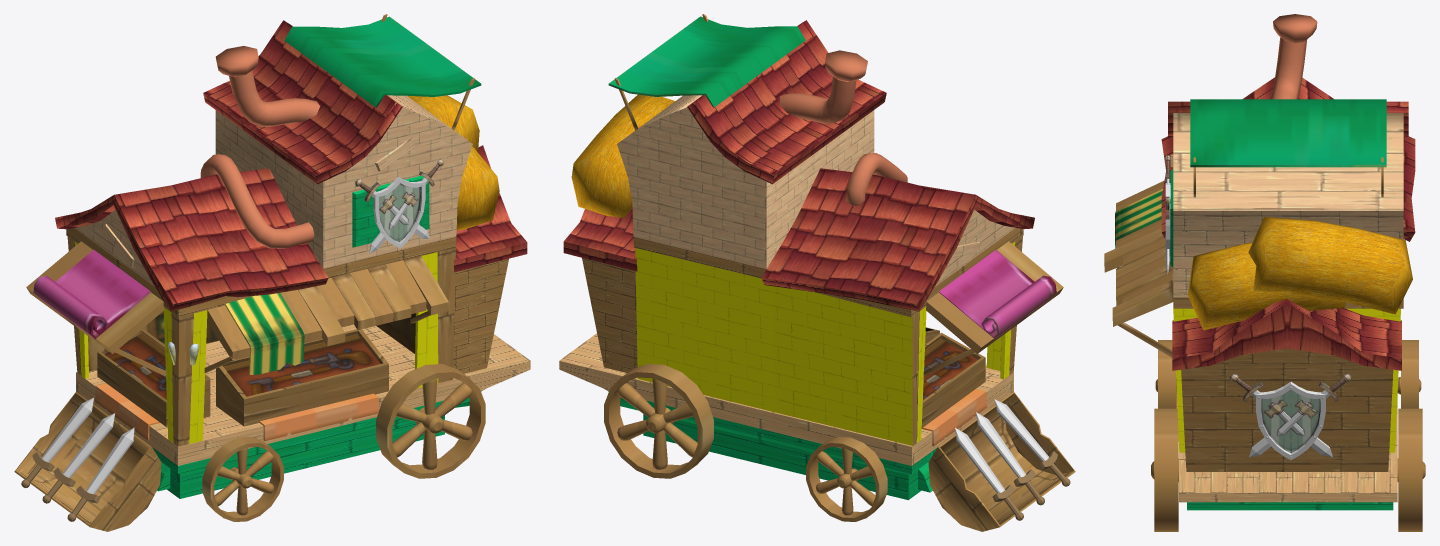
Rendered from weapon_shop_cart.glb.
3 views of the same model, side by side, from view 1: azimuth 30°, elevation 25°; view 2: azimuth 150°, elevation 25°; view 3: azimuth 270°, elevation 25° (orthographic). The views are drawn at different scales.
Parts seen in each view (by area): view 1: Cart, Carpet.002, Cart_While, Etalase, Chest, Pipe, Etalase.001, Logo, Carpet, Straw, Straw.001, Carpet.001 (+3 smaller); view 2: Cart, Carpet.002, Cart_While, Chest, Straw.001, Pipe, Etalase.001, Carpet.001, Sword.002, Sword.001, Sword; view 3: Cart, Carpet.002, Straw.001, Cart_While, Straw, Logo.001, Pipe, Logo1.001, Logo.
Boxes of the visible parts, left/top/right/bottom form: Cart: left=26, top=20, right=530, bottom=498; Carpet.002: left=33, top=14, right=481, bottom=374; Cart_While: left=202, top=364, right=485, bottom=521; Etalase: left=216, top=329, right=388, bottom=426; Chest: left=14, top=391, right=161, bottom=531; Pipe: left=200, top=46, right=320, bottom=248; Etalase.001: left=97, top=328, right=210, bottom=426; Logo: left=355, top=159, right=443, bottom=253; Carpet: left=259, top=393, right=378, bottom=440; Straw: left=456, top=146, right=499, bottom=230; Straw.001: left=407, top=95, right=479, bottom=151; Carpet.001: left=95, top=383, right=159, bottom=440; Cart: left=559, top=20, right=1063, bottom=500; Carpet.002: left=608, top=14, right=1056, bottom=339; Cart_While: left=604, top=364, right=887, bottom=521; Chest: left=928, top=391, right=1075, bottom=531; Straw.001: left=571, top=94, right=675, bottom=217; Pipe: left=780, top=50, right=907, bottom=205; Etalase.001: left=921, top=332, right=985, bottom=427; Carpet.001: left=921, top=389, right=986, bottom=446; Sword.002: left=955, top=427, right=1023, bottom=520; Sword.001: left=976, top=412, right=1044, bottom=505; Sword: left=994, top=399, right=1070, bottom=486; Cart: left=1104, top=77, right=1415, bottom=510; Carpet.002: left=1115, top=99, right=1386, bottom=268; Straw.001: left=1248, top=217, right=1412, bottom=314; Cart_While: left=1151, top=340, right=1425, bottom=531; Straw: left=1187, top=242, right=1345, bottom=330; Logo.001: left=1229, top=374, right=1351, bottom=460; Pipe: left=1270, top=14, right=1317, bottom=99; Logo1.001: left=1264, top=399, right=1317, bottom=436; Logo: left=1165, top=155, right=1170, bottom=274.
Size of the model in its own units: 2.28 by 2.03 by 1.35.
2 materials, 2 textured.
